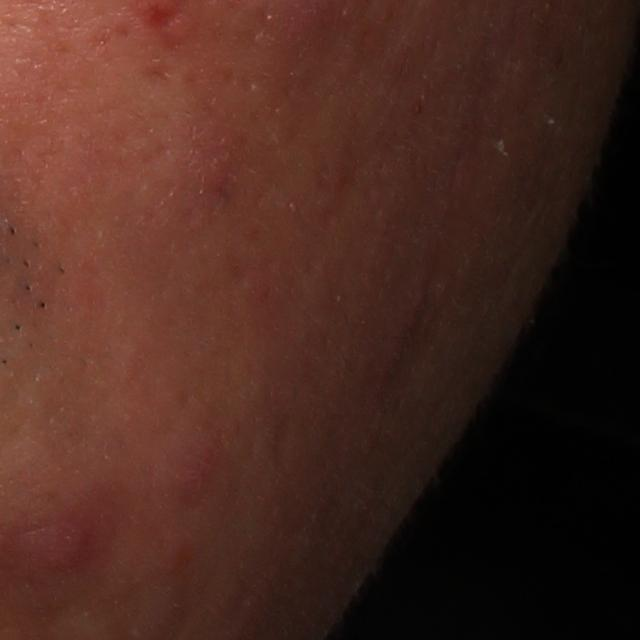papule: (34, 511, 99, 581), (183, 124, 241, 199), (162, 442, 221, 499)
